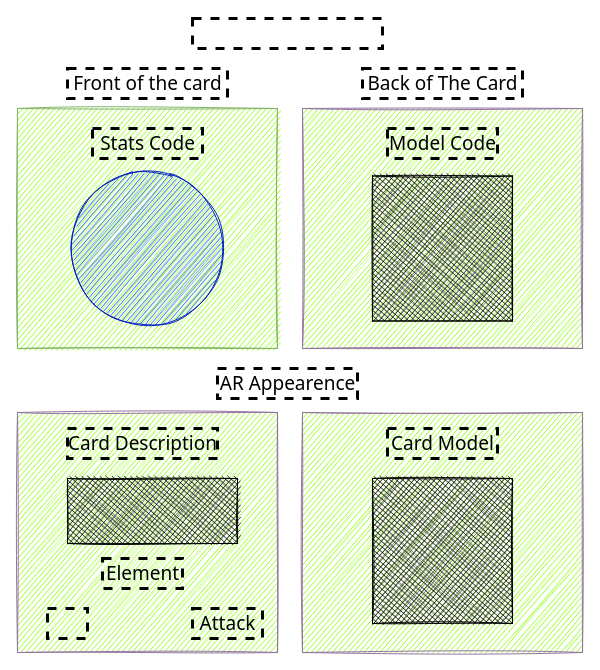
The diagram is 600 pixels wide and 670 high, and some of its shapes have lost their labels. Here are the shapes that lost their labels. From the top down, the box of each, then its label:
(190, 16, 384, 50): Physical Appearence
(46, 606, 88, 640): HP
